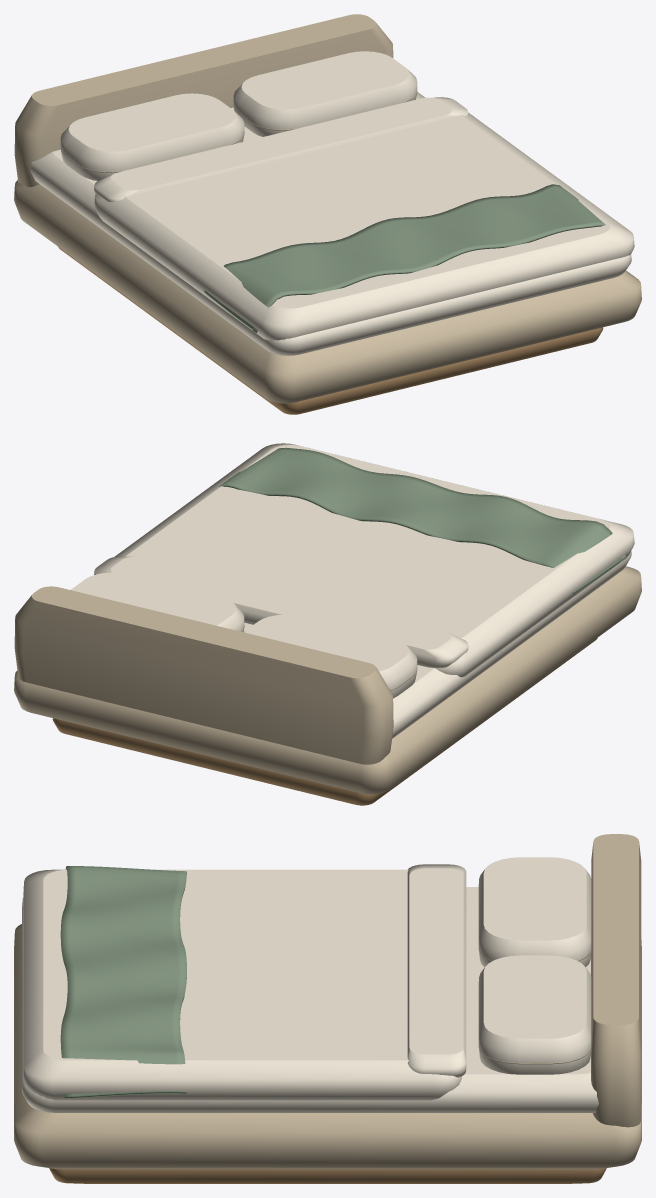
3 renders of one model, top to bottom at view 1: azimuth 30°, elevation 25°; view 2: azimuth 150°, elevation 25°; view 3: azimuth 270°, elevation 25°, orthographic. The views are drawn at different scales.
Visible parts, largest first — view 1: Loft duvet, Upholstered perimeter, Folded sage coverlet, Slipcovered head rail, Mattress, linen ticking, Left pillow, Right pillow, Duvet turnover, Recessed oak plinth; view 2: Loft duvet, Slipcovered head rail, Upholstered perimeter, Folded sage coverlet, Duvet turnover, Left pillow, Recessed oak plinth, Right pillow, Mattress, linen ticking; view 3: Loft duvet, Upholstered perimeter, Folded sage coverlet, Slipcovered head rail, Mattress, linen ticking, Right pillow, Duvet turnover, Left pillow, Recessed oak plinth.
Boxes of the visible parts, x1,y1,x2,y2 form: Loft duvet: [94, 112, 634, 340]; Upholstered perimeter: [14, 180, 641, 403]; Folded sage coverlet: [204, 184, 605, 332]; Slipcovered head rail: [14, 14, 393, 187]; Mattress, linen ticking: [30, 92, 631, 355]; Left pillow: [60, 93, 244, 180]; Right pillow: [233, 51, 417, 136]; Duvet turnover: [94, 97, 468, 202]; Recessed oak plinth: [58, 247, 603, 414]; Loft duvet: [114, 443, 634, 677]; Slipcovered head rail: [14, 586, 393, 764]; Upholstered perimeter: [14, 566, 641, 794]; Folded sage coverlet: [218, 447, 625, 594]; Duvet turnover: [94, 556, 468, 667]; Left pillow: [244, 614, 417, 698]; Recessed oak plinth: [52, 638, 597, 805]; Right pillow: [71, 572, 244, 632]; Mattress, linen ticking: [243, 551, 631, 738]; Loft duvet: [23, 869, 462, 1100]; Upholstered perimeter: [14, 924, 641, 1169]; Folded sage coverlet: [60, 866, 186, 1098]; Slipcovered head rail: [591, 834, 641, 1127]; Mattress, linen ticking: [22, 887, 598, 1112]; Right pillow: [478, 955, 591, 1074]; Duvet turnover: [407, 864, 466, 1077]; Left pillow: [478, 857, 591, 967]; Recessed oak plinth: [49, 1168, 606, 1183].
Bounding box in the file's own units: 1.6 × 0.6 × 2.
